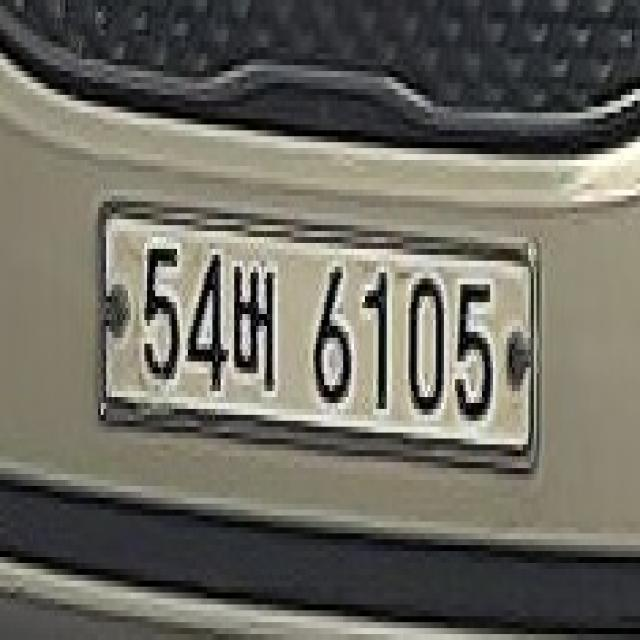0: (400, 255, 455, 444)
1: (362, 243, 395, 415)
4: (182, 225, 229, 403)
5: (455, 220, 498, 444), (139, 213, 182, 391)
6: (313, 225, 360, 415)
beo: (223, 261, 289, 397)
license_plate: (90, 201, 545, 492)
